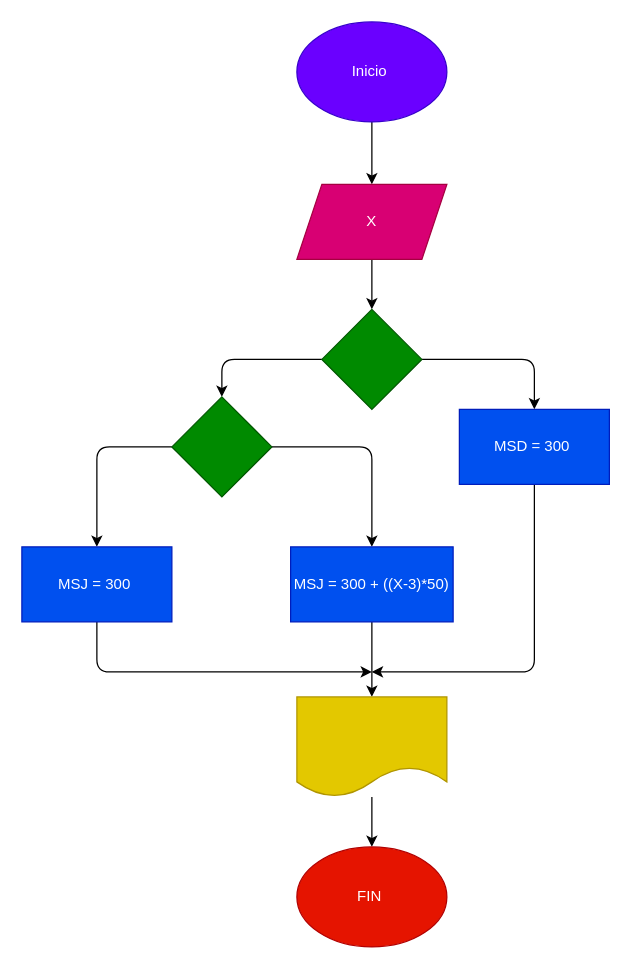
Some shapes in this 631 by 969 pixel diagram are drawn without their labels. The centre of each missing label's shape, as x and y in pixels:
TOTAL $: point 371,746
X == 3: point 371,358
X > 3: point 221,446
